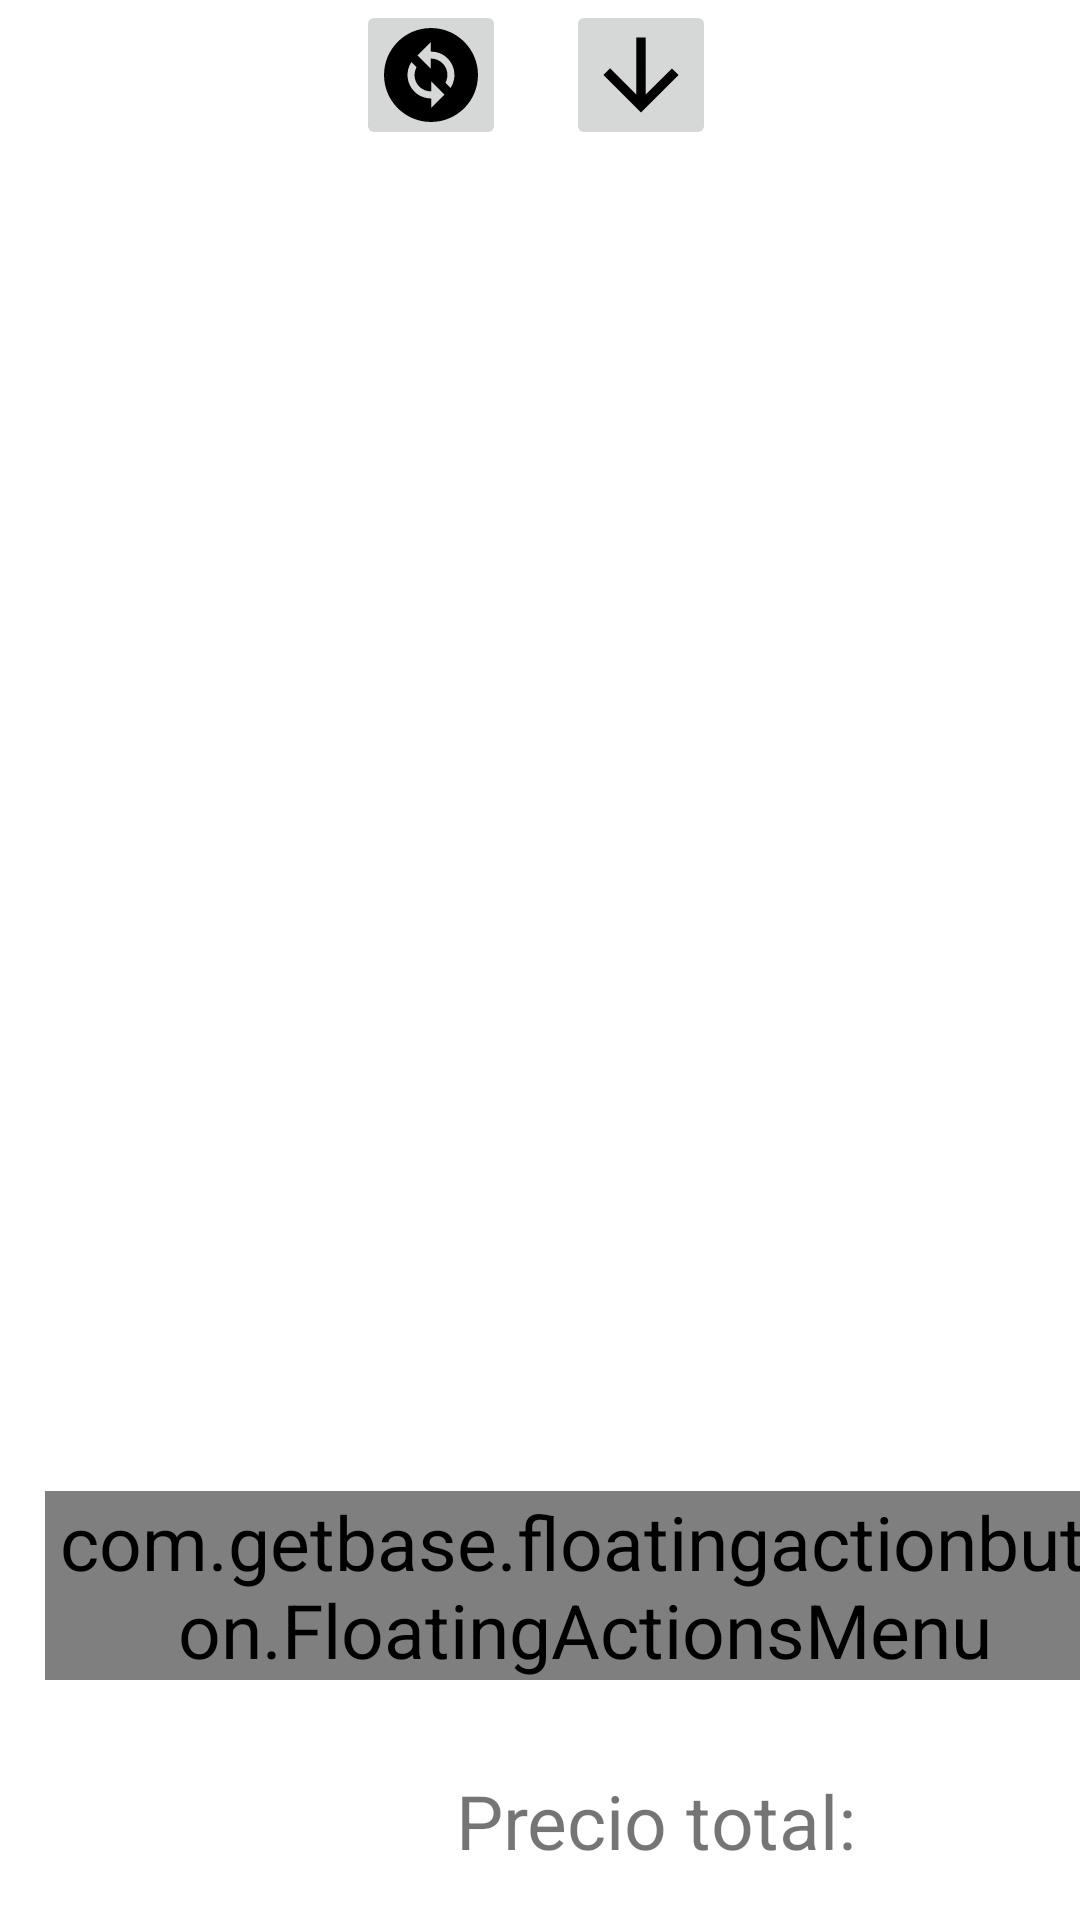

Where icons sit on this 1080*1920 app screen, as (x1, y1, x2, y2):
change: (368, 18, 494, 132)
load: (578, 18, 704, 132)
